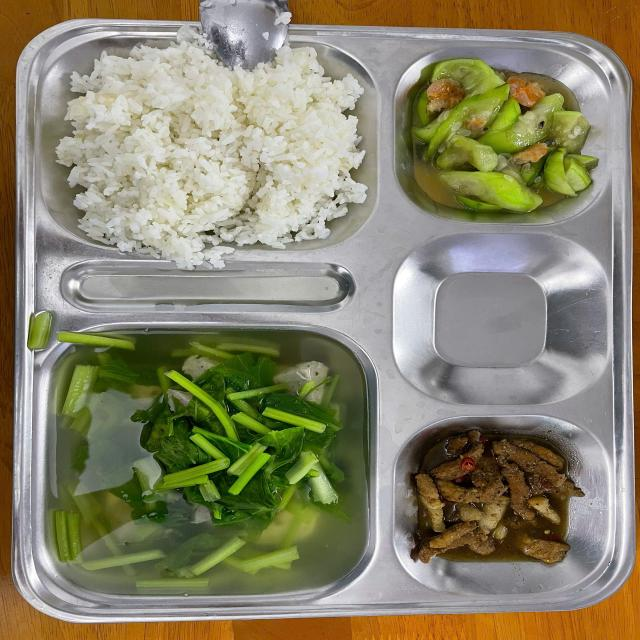canhrau: (53, 333, 369, 605)
muoptom: (412, 60, 594, 216)
salad: (56, 45, 360, 245)
teprim: (404, 434, 590, 570)
